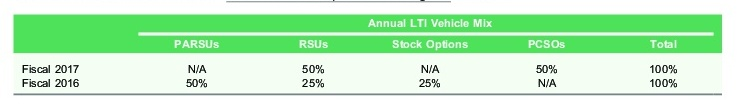table: (0, 0, 737, 104)
